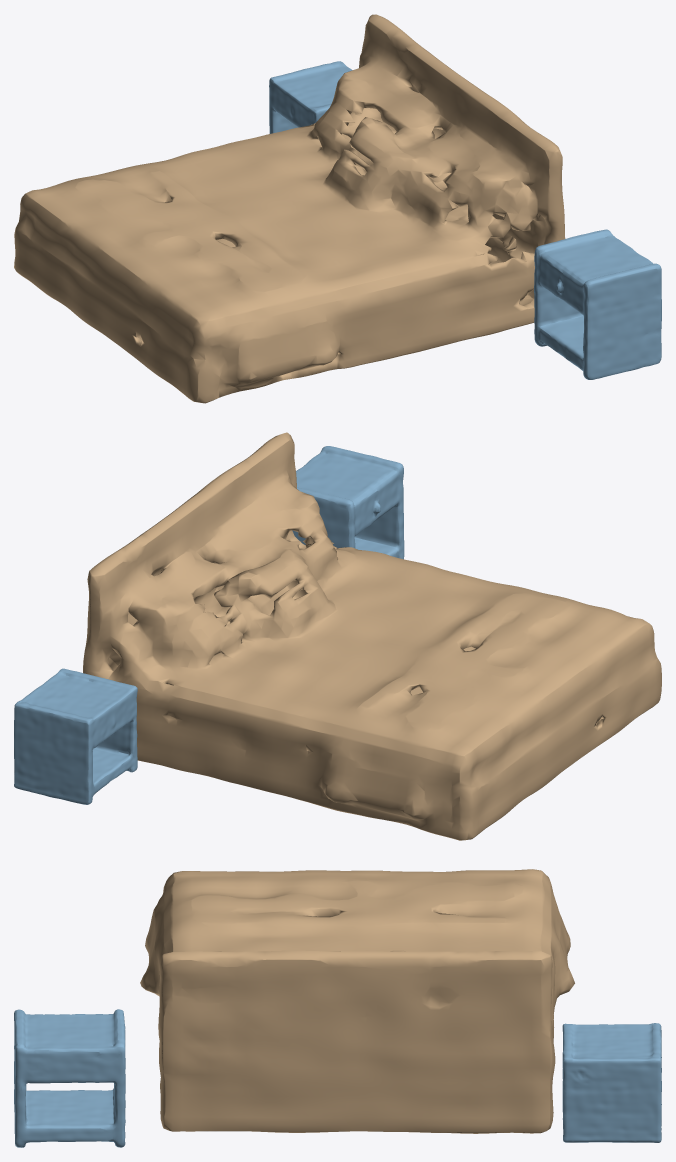
File: SecondBedroom-30034_echoscene.glb
3 renders of one model, top to bottom at view 1: azimuth 30°, elevation 25°; view 2: azimuth 150°, elevation 25°; view 3: azimuth 270°, elevation 25°, orthographic. The views are drawn at different scales.
Parts seen in each view (by area): view 1: world; view 2: world; view 3: world.
Boxes of the visible parts, left/top/right/bottom form: world: left=14, top=14, right=661, bottom=403; world: left=14, top=432, right=661, bottom=840; world: left=14, top=869, right=661, bottom=1147.
Bounding box in the file's own units: 2.48 × 1.04 × 3.36.
